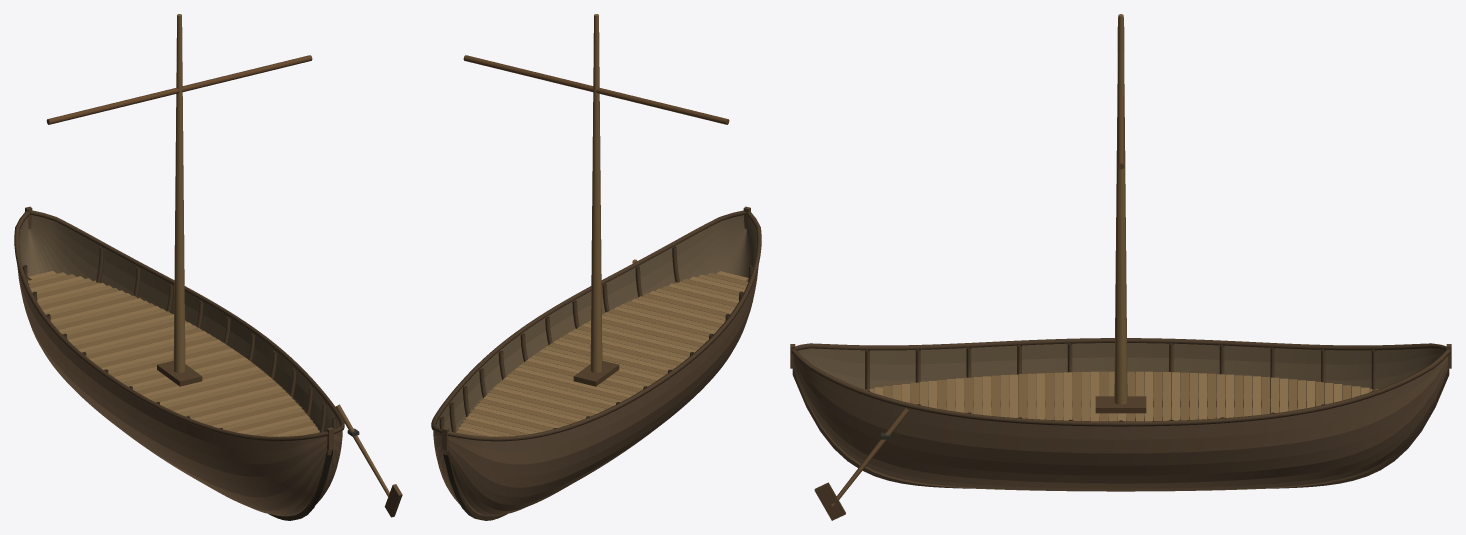
File: knarr.glb
3 renders of one model, left to right at view 1: azimuth 30°, elevation 25°; view 2: azimuth 150°, elevation 25°; view 3: azimuth 270°, elevation 25°, orthographic. The views are drawn at different scales.
Visible parts, largest first — view 1: Clinker hull, framing and deck; view 2: Clinker hull, framing and deck; view 3: Clinker hull, framing and deck.
Boxes of the visible parts, bbox=[...] form: Clinker hull, framing and deck: bbox=[14, 14, 402, 520]; Clinker hull, framing and deck: bbox=[431, 14, 761, 520]; Clinker hull, framing and deck: bbox=[790, 14, 1451, 520].
Size of the model in its own units: 8.8 by 13.92 by 17.63.
